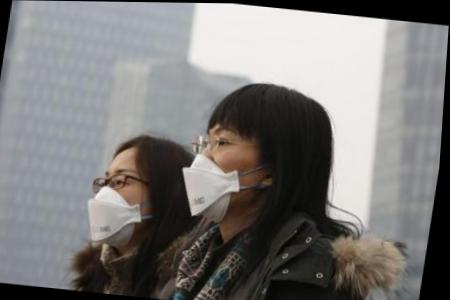OK: (83, 159, 176, 249)
WRONG: (179, 116, 286, 219)
